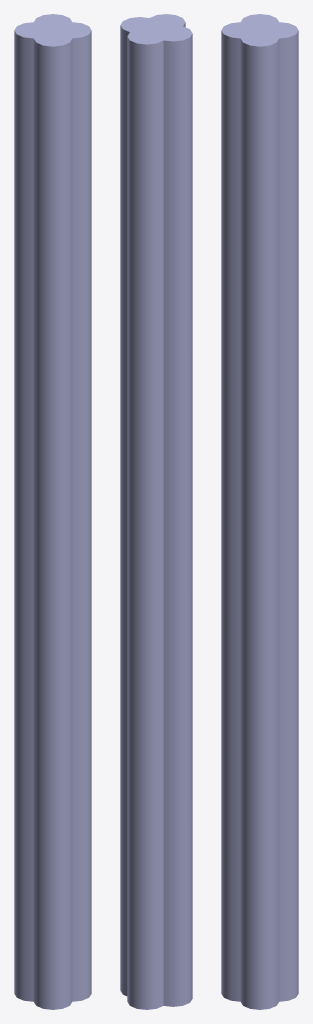
The model's file is Pillar_02_x4_Center_Lod0.fbx.
The picture shows the model from 3 angles, left to right: view 1: azimuth 90°, elevation 25°; view 2: azimuth 150°, elevation 25°; view 3: azimuth 270°, elevation 25°; orthographic projection.
Parts seen in each view (by area): view 1: Pillar_02_x4_Center_Lod0; view 2: Pillar_02_x4_Center_Lod0; view 3: Pillar_02_x4_Center_Lod0.
Boxes of the visible parts, x1,y1,x2,y2 form: Pillar_02_x4_Center_Lod0: (14,14,91,1009); Pillar_02_x4_Center_Lod0: (120,14,192,1009); Pillar_02_x4_Center_Lod0: (221,14,298,1009).
Size of the model in its own units: 85.11 by 1170 by 85.23.
